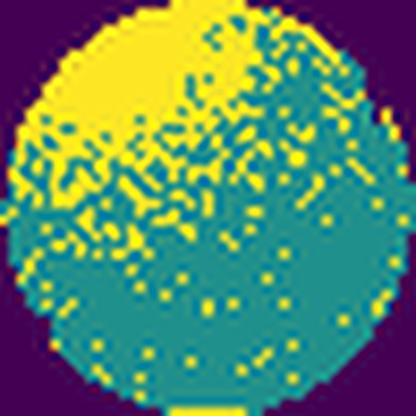Edge-Loc: (0, 0, 268, 228), (156, 400, 251, 416)
